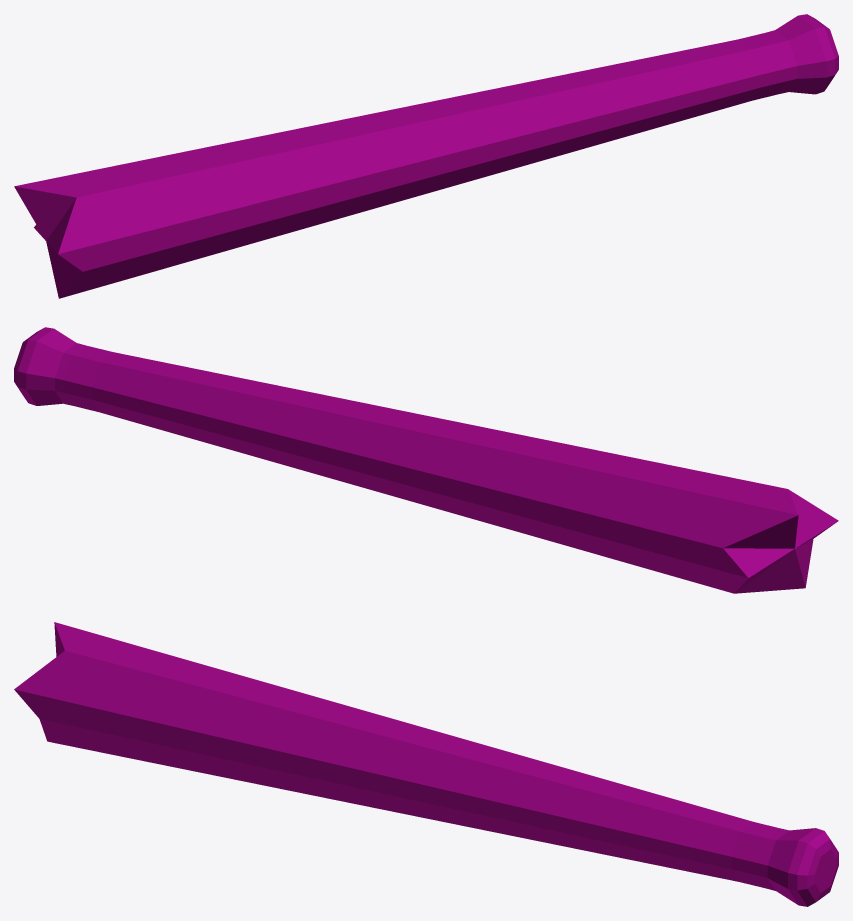
File: BateRotoAbajo.fbx
3 renders of one model, top to bottom at view 1: azimuth 30°, elevation 25°; view 2: azimuth 150°, elevation 25°; view 3: azimuth 330°, elevation 25°, orthographic.
Visible parts, largest first — view 1: RotoAbajo; view 2: RotoAbajo; view 3: RotoAbajo.
Part boxes in pixels (x1,y1,x2,y2): RotoAbajo: [14, 14, 838, 298]; RotoAbajo: [14, 327, 838, 593]; RotoAbajo: [14, 622, 838, 906].
Size of the model in its own units: 33.42 by 3.92 by 4.22.
